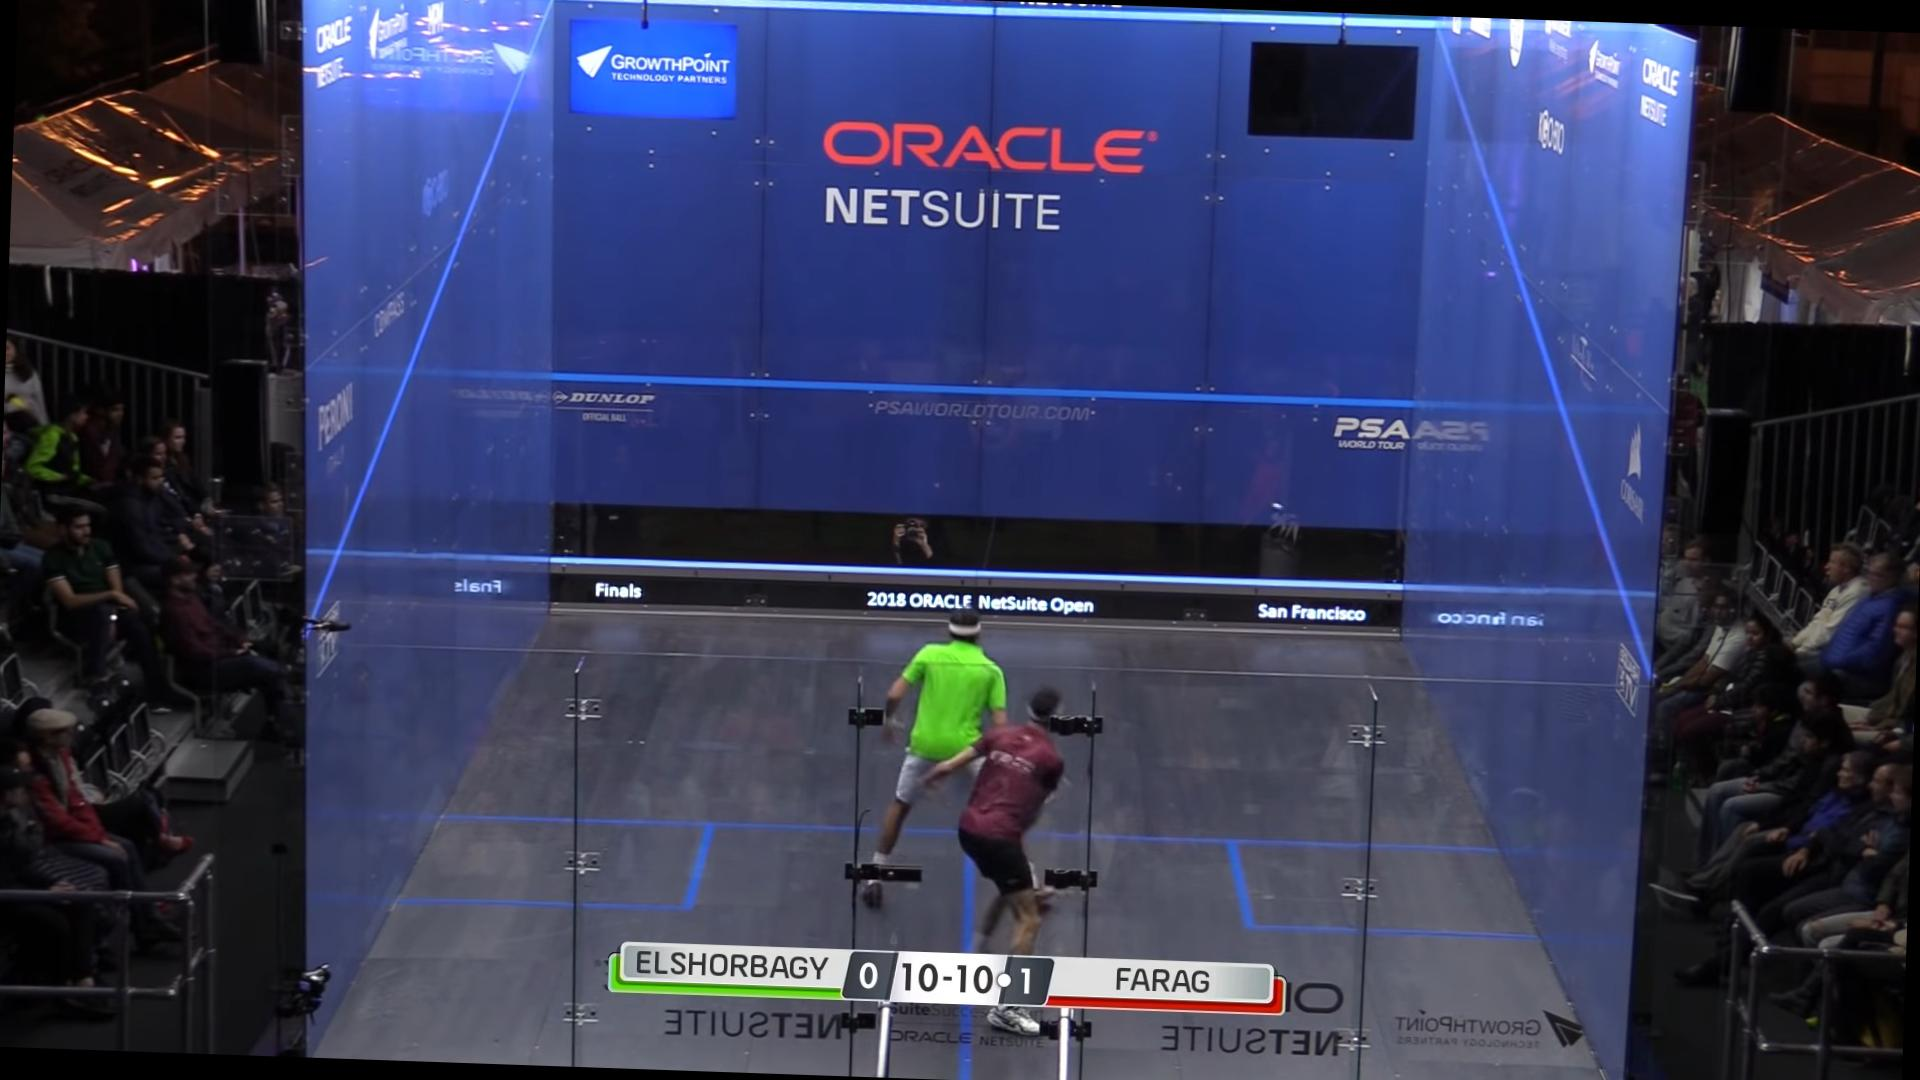Squash-Ball: (1270, 498, 1294, 516)
